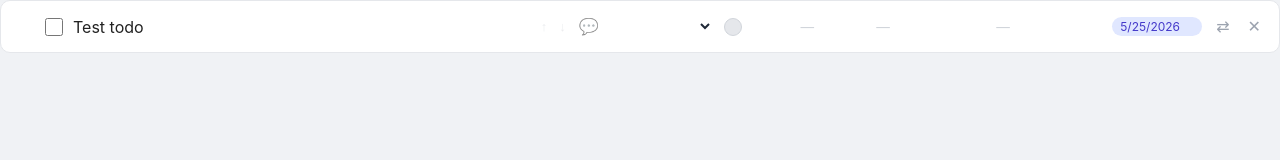
Test: TodoItem › Date editing › shows a date input when the date badge is clicked
The image size is (1280, 160).
Click the text "5/25/2026" at (1157,26), box [1112, 17, 1202, 36]
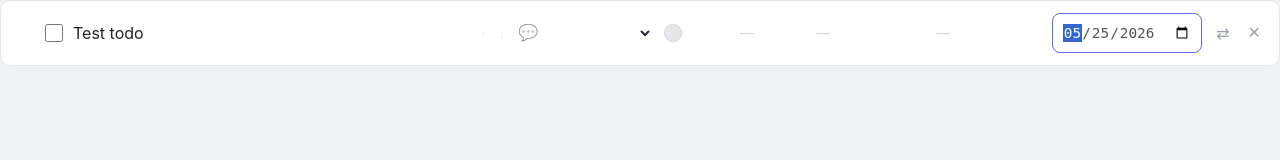
expect the date field is shown: met, box [1052, 13, 1202, 53]
